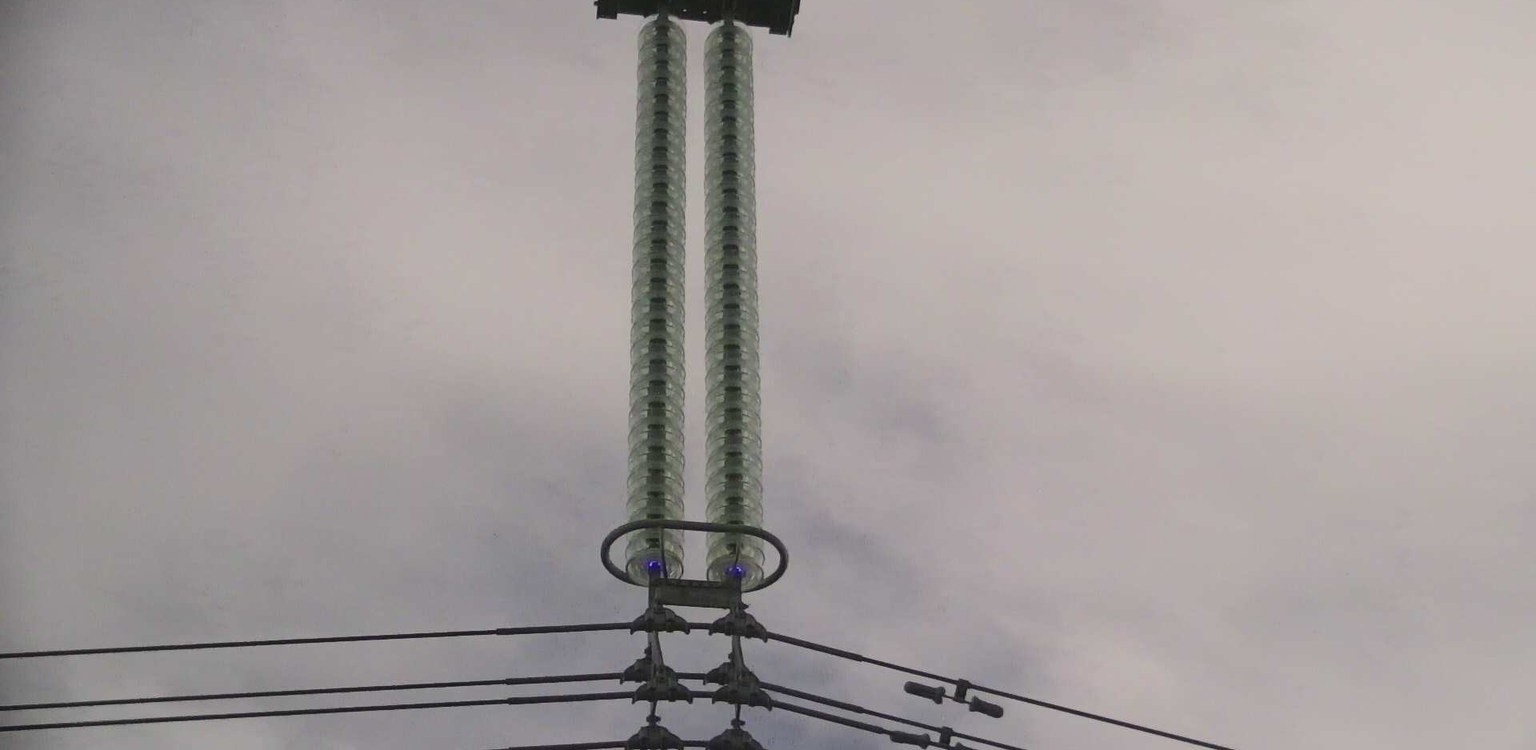绝缘子污闪: (646, 559, 662, 568), (727, 564, 742, 573)
